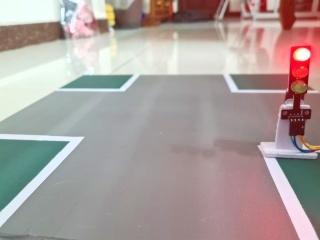red: (281, 34, 315, 109)
